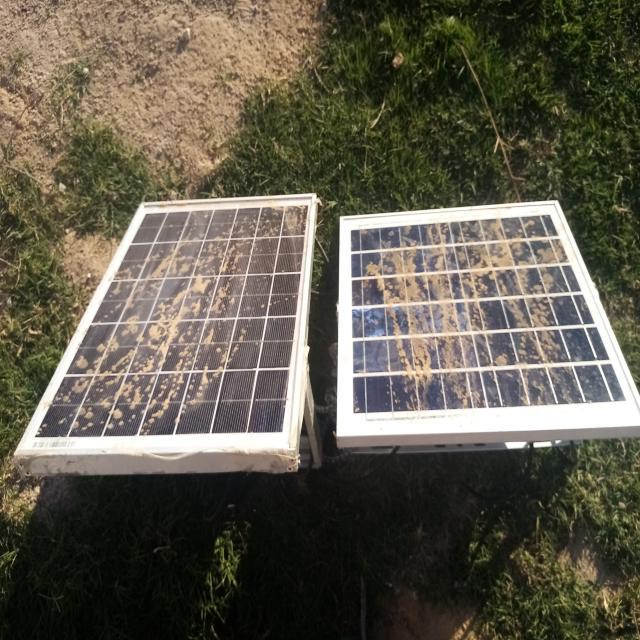faulty: (16, 194, 317, 456), (338, 202, 640, 437)
